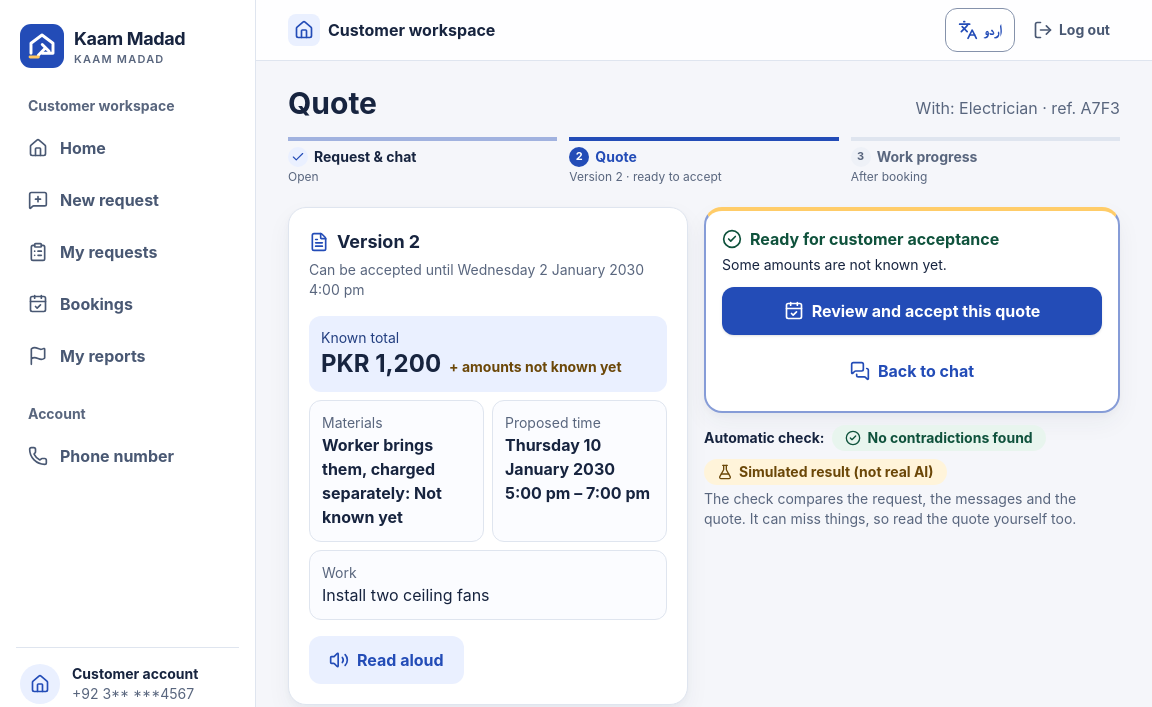
it: accepting a quote › after a dropped connection it reloads the server state before offering to try again with the same key
Later steps or results of the test are not shown.
Step 1. Click the button "Review and accept this quote" → (912, 311), box [722,287,1102,335]
(page scrolled)
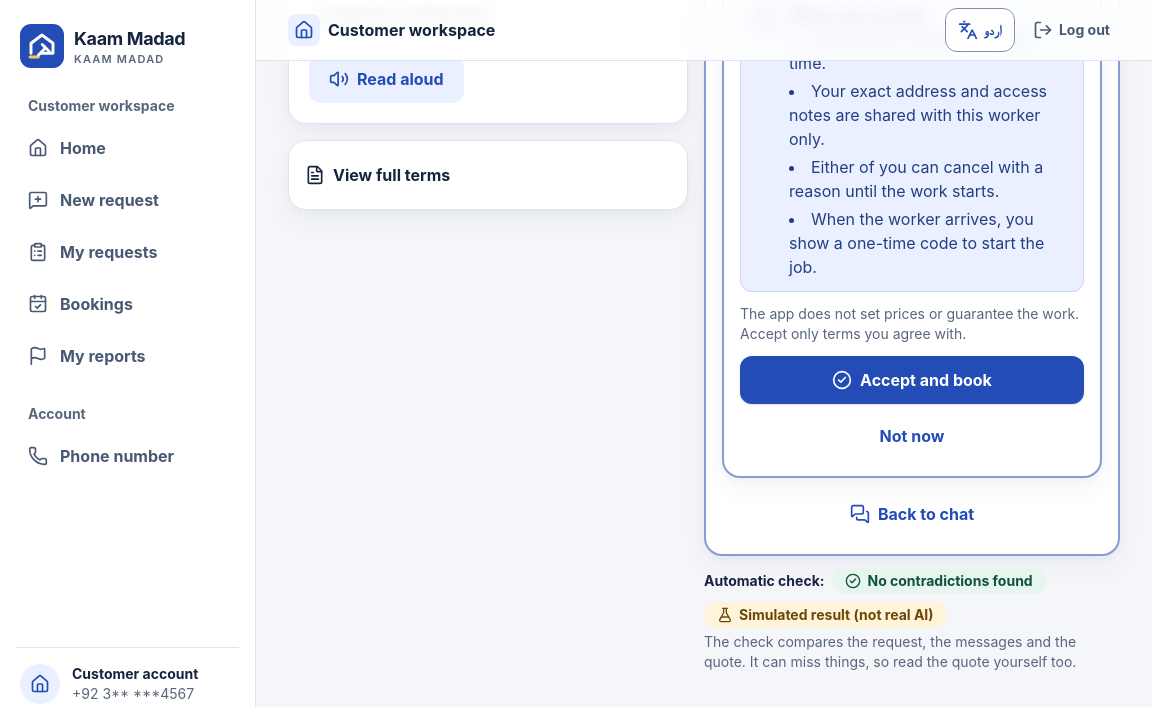
Step 2. Click the button "Accept and book" → (912, 380), box [740,356,1084,404]
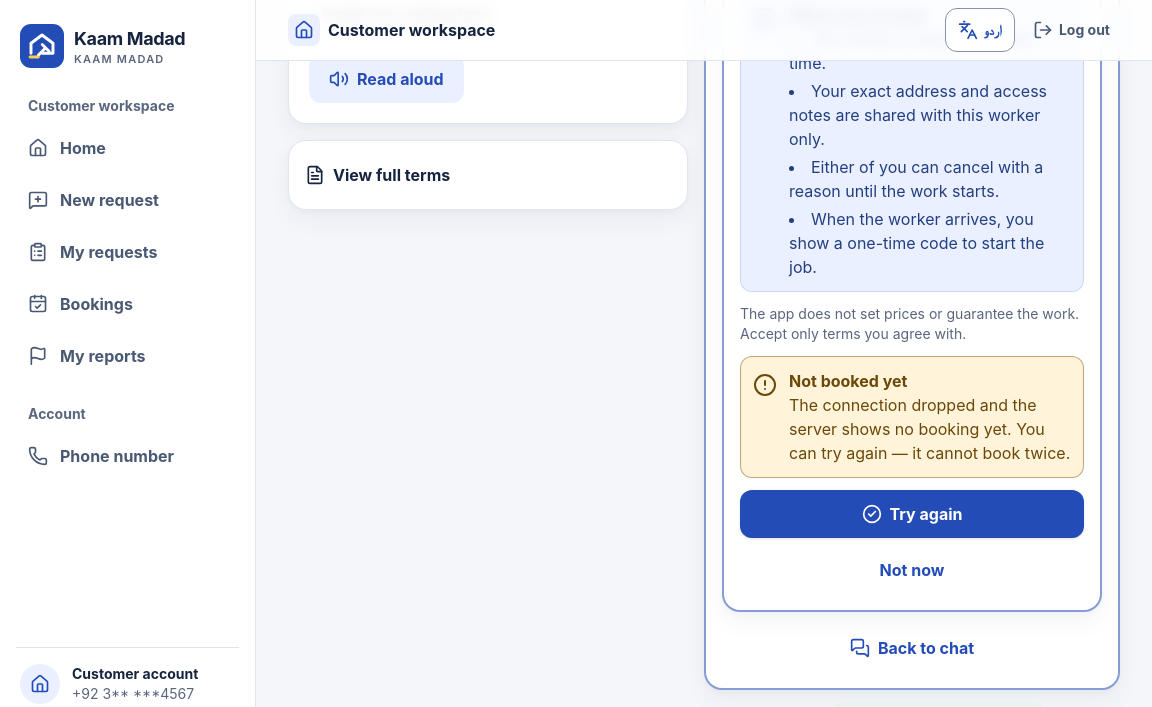
Result: the text "Not booked yet" is shown at [789,371,907,391]
